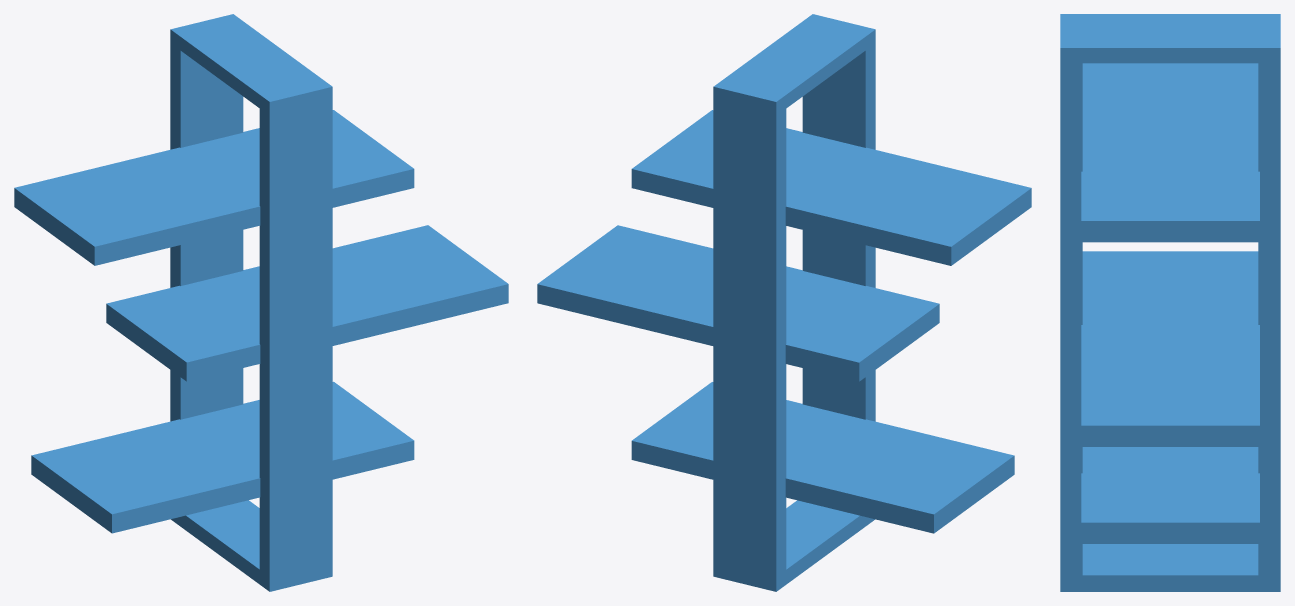
The model's file is shelf_assimetrical.fbx.
3 views of the same model, side by side, from view 1: azimuth 30°, elevation 25°; view 2: azimuth 150°, elevation 25°; view 3: azimuth 270°, elevation 25° (orthographic). The views are drawn at different scales.
Visible parts, largest first — view 1: Cube.003; view 2: Cube.003; view 3: Cube.003.
Part boxes in pixels (box(x1,y1,x2,y2)): Cube.003: box(14, 14, 508, 591); Cube.003: box(537, 14, 1031, 591); Cube.003: box(1060, 14, 1280, 591).
Bounding box in the file's own units: 268 × 303 × 111.
